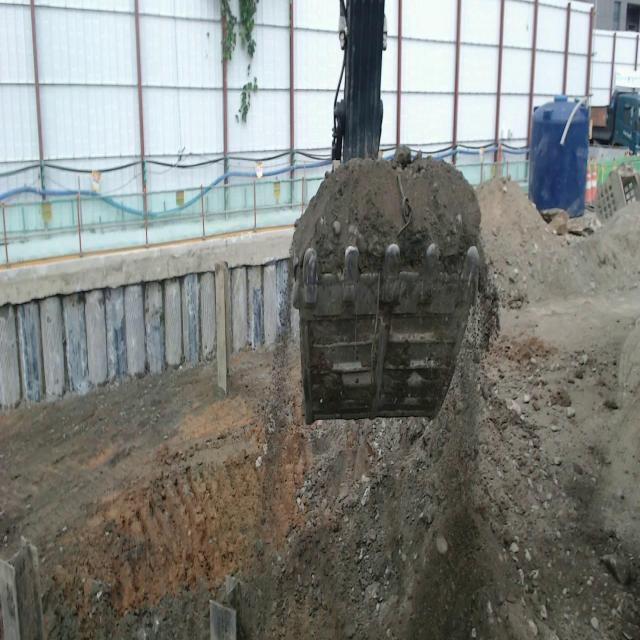cement: (0, 220, 294, 306)
red-sand: (0, 158, 640, 639)
